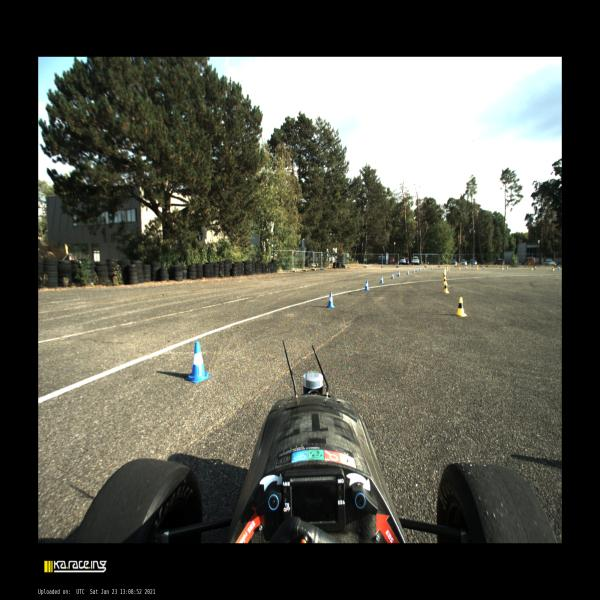blue_cone: (184, 341, 212, 383), (326, 292, 335, 308), (364, 280, 370, 291), (380, 275, 384, 284), (390, 272, 394, 280), (412, 268, 415, 273), (398, 271, 400, 277), (407, 269, 409, 275), (534, 266, 536, 270), (558, 266, 560, 270), (465, 266, 467, 269), (506, 266, 508, 269), (431, 266, 432, 270), (423, 266, 424, 270), (416, 268, 417, 272), (483, 266, 484, 269), (419, 268, 420, 270)
yellow_cone: (456, 297, 466, 317), (443, 282, 449, 294), (443, 276, 448, 285), (458, 266, 461, 270), (552, 266, 554, 271), (530, 266, 532, 270), (502, 266, 504, 270), (476, 266, 478, 270), (448, 266, 450, 270), (443, 272, 445, 276)
